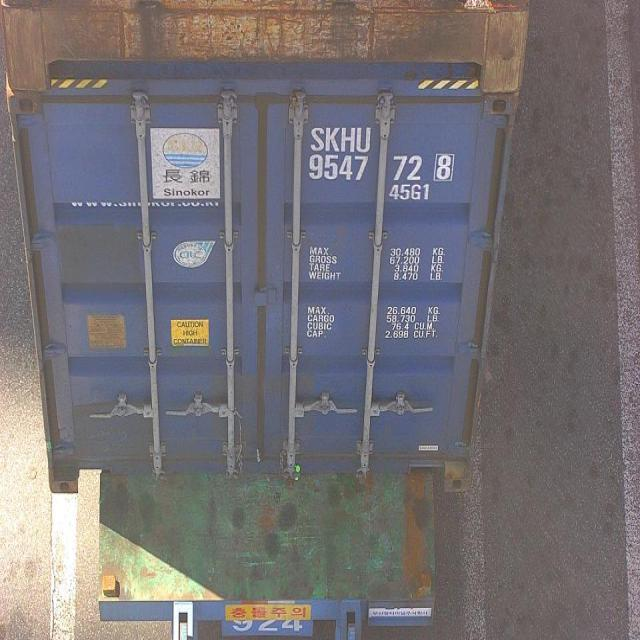ISO: (390, 181, 432, 201)
container_number: (310, 125, 458, 184)
